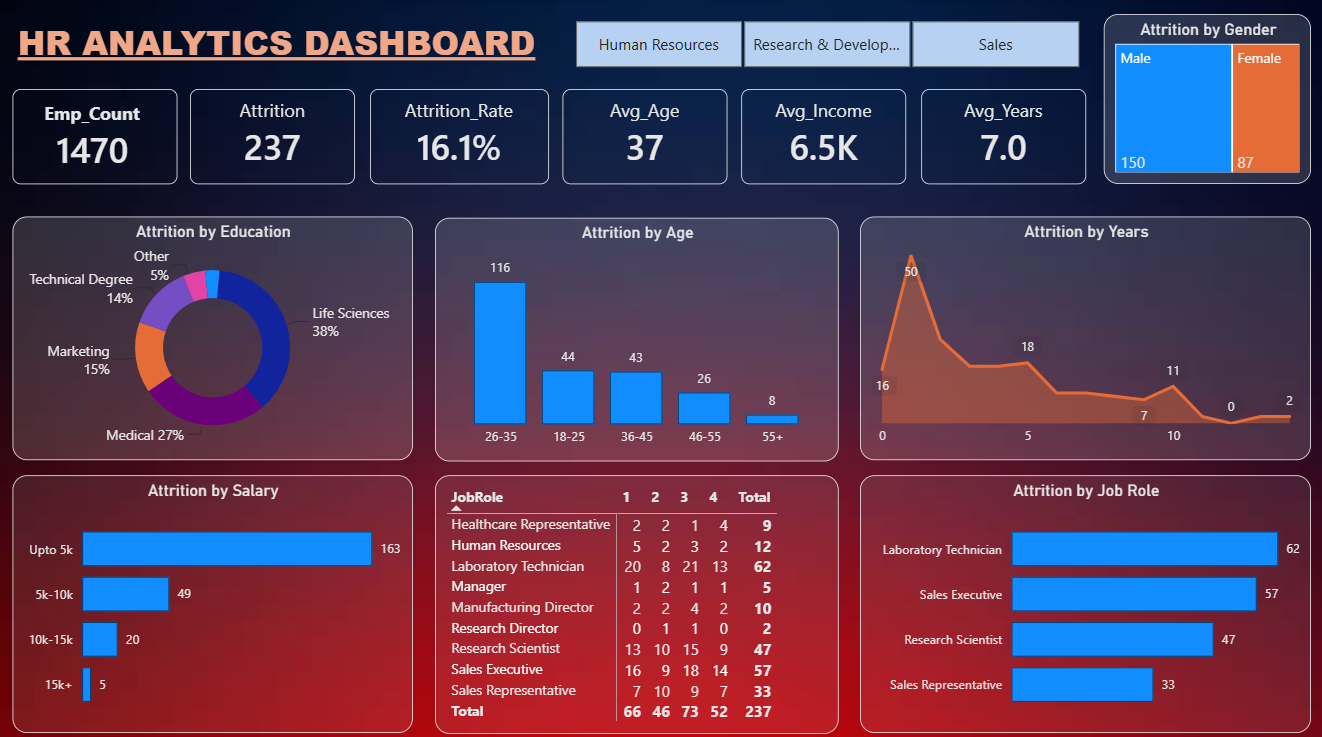

Layout of this report page (visuals, bound fields, positions):
{"tool":"powerbi","page":{"name":"Page 1","canvas":[1280,720],"ordinal":0},"visuals":[{"type":"cardVisual","fields":{"Data":["CountNonNull(HR_Analytics.EmpID)"]},"box":[12.1,86.9,159.3,91.7],"z":0},{"type":"cardVisual","fields":{"Data":["Sum(HR_Analytics.Attrition_Count)"]},"box":[183.4,86.9,159.3,91.7],"z":1000},{"type":"cardVisual","fields":{"Data":["HR_Analytics.Attrition_Rate"]},"box":[357,86.9,172.5,91.7],"z":2000},{"type":"cardVisual","fields":{"Data":["Avg(HR_Analytics.Age)"]},"box":[542.9,86.9,159.3,91.7],"z":3000},{"type":"cardVisual","fields":{"Data":["Avg(HR_Analytics.MonthlyIncome)"]},"box":[715.4,86.9,159.3,91.7],"z":4000},{"type":"cardVisual","fields":{"Data":["Avg(HR_Analytics.YearsAtCompany)"]},"box":[889,86.9,159.3,91.7],"z":5000},{"type":"donutChart","title":"Attrition by Education","fields":{"Category":["HR_Analytics.EducationField"],"Y":["Sum(HR_Analytics.Attrition_Count)"]},"box":[12.1,209.9,386.1,235.3],"z":6000},{"type":"columnChart","title":"Attrition by Age","fields":{"Category":["HR_Analytics.AgeGroup"],"Y":["Sum(HR_Analytics.Attrition_Count)"]},"box":[419.8,211.1,389.7,235.3],"z":7000},{"type":"pivotTable","fields":{"Rows":["HR_Analytics.JobRole"],"Columns":["HR_Analytics.JobSatisfaction"],"Values":["Sum(HR_Analytics.Attrition_Count)"]},"box":[419.8,460,389.7,249.7],"z":8000},{"type":"barChart","title":"Attrition by Salary","fields":{"Category":["HR_Analytics.SalarySlab"],"Y":["Sum(HR_Analytics.Attrition_Count)"]},"box":[12.1,460,386.1,248.5],"z":9000},{"type":"barChart","title":"Attrition by Job Role","fields":{"Category":["HR_Analytics.JobRole"],"Y":["Sum(HR_Analytics.Attrition_Count)"]},"box":[830,460,435.5,248.5],"z":10000},{"type":"areaChart","title":"Attrition by Years","fields":{"Category":["HR_Analytics.YearsAtCompany"],"Y":["Sum(HR_Analytics.Attrition_Count)"]},"box":[830,209.9,435.5,235.3],"z":11000},{"type":"treemap","title":"Attrition by Gender","fields":{"Group":["HR_Analytics.Gender"],"Values":["Sum(HR_Analytics.Attrition_Count)"]},"box":[1065.3,14.5,200.3,164.1],"z":12000},{"type":"slicer","fields":{"Values":["HR_Analytics.Department"]},"box":[529.6,14.5,535.7,57.9],"z":12001},{"type":"textbox","box":[12.1,14.5,550.1,63.9],"z":12002}]}

Visuals, with their boxes in screenshot pixels (x1, y1, x2, y2), scaled from the page's 1280x720 canvas onto the 1322x737 screenshot:
cardVisual - CountNonNull(HR_Analytics.EmpID): [x1=12, y1=89, x2=177, y2=183]
cardVisual - Sum(HR_Analytics.Attrition_Count): [x1=189, y1=89, x2=354, y2=183]
cardVisual - HR_Analytics.Attrition_Rate: [x1=369, y1=89, x2=547, y2=183]
cardVisual - Avg(HR_Analytics.Age): [x1=561, y1=89, x2=725, y2=183]
cardVisual - Avg(HR_Analytics.MonthlyIncome): [x1=739, y1=89, x2=903, y2=183]
cardVisual - Avg(HR_Analytics.YearsAtCompany): [x1=918, y1=89, x2=1083, y2=183]
"Attrition by Education" donutChart: [x1=12, y1=215, x2=411, y2=456]
"Attrition by Age" columnChart: [x1=434, y1=216, x2=836, y2=457]
pivotTable - HR_Analytics.JobRole x HR_Analytics.JobSatisfaction: [x1=434, y1=471, x2=836, y2=726]
"Attrition by Salary" barChart: [x1=12, y1=471, x2=411, y2=725]
"Attrition by Job Role" barChart: [x1=857, y1=471, x2=1307, y2=725]
"Attrition by Years" areaChart: [x1=857, y1=215, x2=1307, y2=456]
"Attrition by Gender" treemap: [x1=1100, y1=15, x2=1307, y2=183]
slicer - HR_Analytics.Department: [x1=547, y1=15, x2=1100, y2=74]
textbox: [x1=12, y1=15, x2=581, y2=80]
